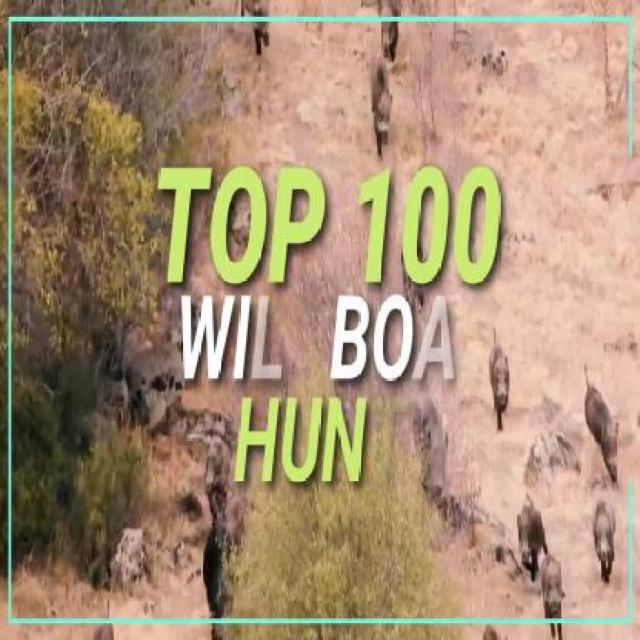pig: (572, 368, 640, 497), (360, 51, 411, 170), (484, 303, 528, 439), (566, 497, 622, 575), (234, 0, 281, 58), (543, 555, 578, 631), (364, 0, 405, 58), (515, 504, 550, 570)
